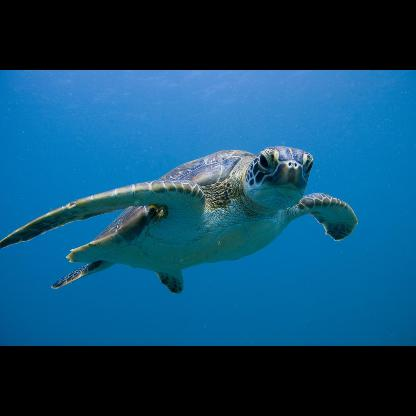turtle: (1, 139, 358, 293)
